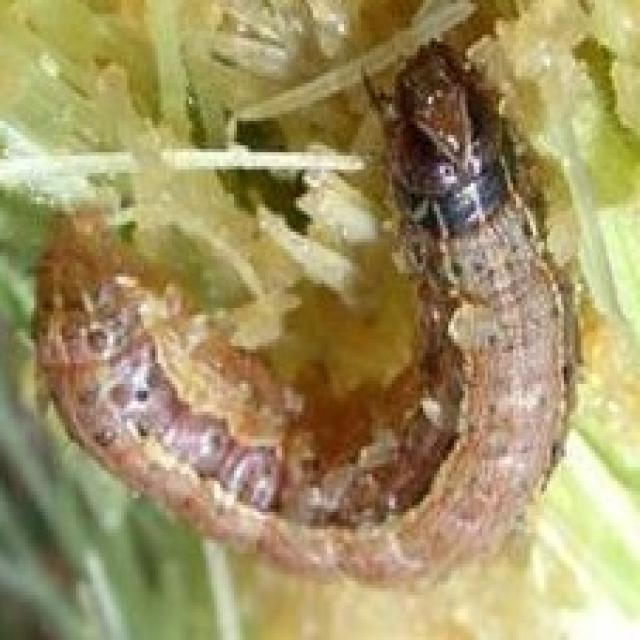army worm: (22, 48, 578, 598)
